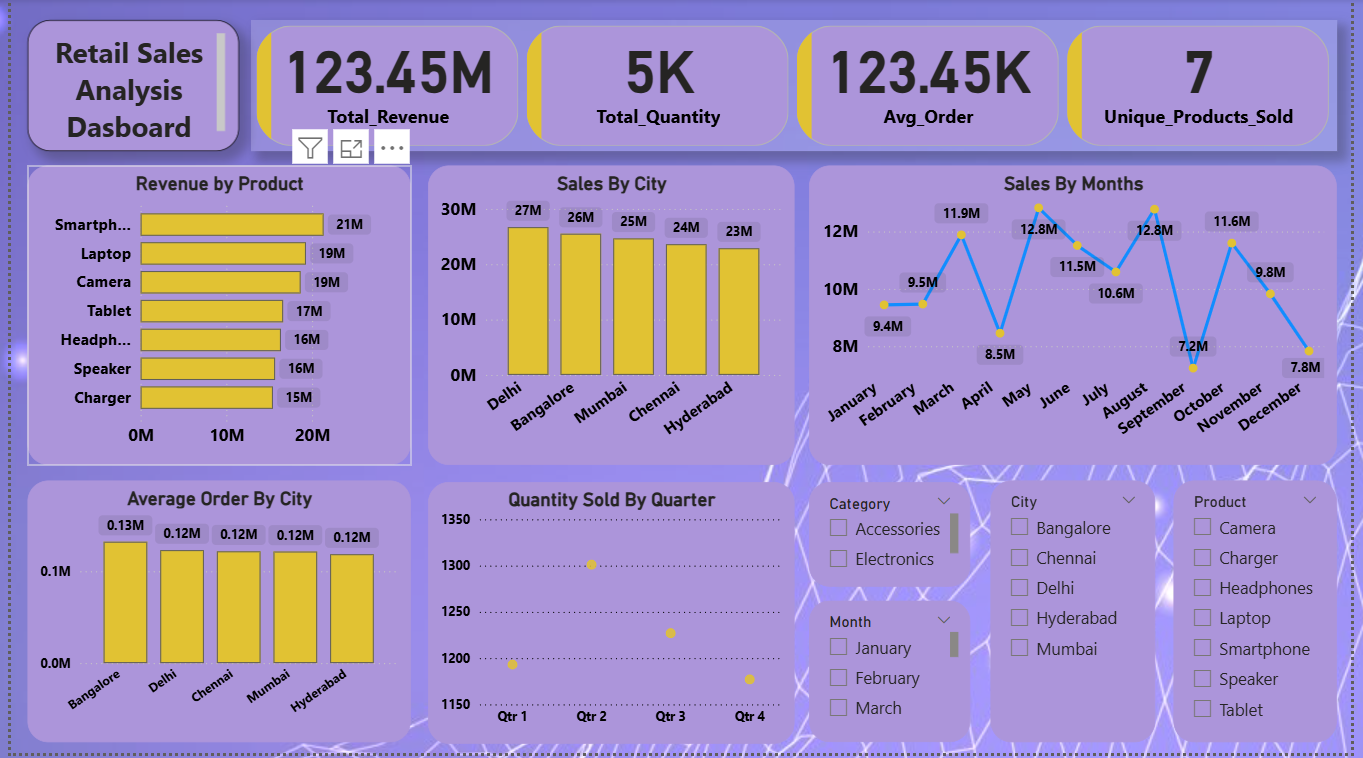

This screenshot's page, from the dashboard's own definition file:
{"tool":"powerbi","page":{"name":"Page 1","canvas":[1280,720],"ordinal":0},"visuals":[{"type":"textbox","box":[15.9,20.7,202,125.7],"z":0},{"type":"cardVisual","title":"Total_Quantity","fields":{"Data":["retail_dataset_sql_project.Total_Revenue","retail_dataset_sql_project.Total_Quantity","retail_dataset_sql_project.Avg_Order","retail_dataset_sql_project.Unique_Products_Sold"]},"box":[229,20.7,1037.1,125.7],"z":1000},{"type":"clusteredBarChart","title":"Revenue by Product","fields":{"Y":["retail_dataset_sql_project.Total_Revenue"],"Category":["retail_dataset_sql_project.Product"]},"box":[15.9,159.1,365.8,286.3],"z":2000},{"type":"clusteredColumnChart","title":"Sales By City","fields":{"Category":["retail_dataset_sql_project.City"],"Y":["Sum(retail_dataset_sql_project.Total)"]},"box":[397.7,159.1,349.9,286.3],"z":3000},{"type":"lineChart","title":"Sales By Months","fields":{"Y":["Sum(retail_dataset_sql_project.Total)"],"Category":["retail_dataset_sql_project.Date.Variation.Date Hierarchy.Month"]},"box":[761.9,159.1,504.2,286.3],"z":4000},{"type":"clusteredColumnChart","title":"Average Order By City","fields":{"Y":["retail_dataset_sql_project.Avg_Order"],"Category":["retail_dataset_sql_project.City"]},"box":[15.9,459.7,365.8,249.7],"z":4001},{"type":"scatterChart","title":"Quantity Sold By Quarter","fields":{"X":["retail_dataset_sql_project.Date.Variation.Date Hierarchy.Quarter"],"Y":["Sum(retail_dataset_sql_project.Quantity)"]},"box":[397.7,461.3,349.9,249.7],"z":4002},{"type":"slicer","title":"Average Order By City","fields":{"Values":["retail_dataset_sql_project.Product"]},"box":[1110.2,459.7,155.9,249.7],"z":4003},{"type":"slicer","title":"Average Order By City","fields":{"Values":["retail_dataset_sql_project.City"]},"box":[935.3,459.7,157.5,249.7],"z":4004},{"type":"slicer","title":"Average Order By City","fields":{"Values":["retail_dataset_sql_project.Category"]},"box":[761.9,461.3,154.3,100.2],"z":4005},{"type":"slicer","title":"Average Order By City","fields":{"Values":["retail_dataset_sql_project.Date.Variation.Date Hierarchy.Month"]},"box":[761.9,574.2,154.3,135.2],"z":4006}]}

Visuals, with their boxes on the page's 1280x720 design canvas (x1, y1, x2, y2). These are canvas units, not pixel positions in the 1363x758 screenshot, which may show the page scaled, cropped or inside an application window:
textbox: (left=16, top=21, right=218, bottom=146)
"Total_Quantity" cardVisual: (left=229, top=21, right=1266, bottom=146)
"Revenue by Product" clusteredBarChart: (left=16, top=159, right=382, bottom=445)
"Sales By City" clusteredColumnChart: (left=398, top=159, right=748, bottom=445)
"Sales By Months" lineChart: (left=762, top=159, right=1266, bottom=445)
"Average Order By City" clusteredColumnChart: (left=16, top=460, right=382, bottom=709)
"Quantity Sold By Quarter" scatterChart: (left=398, top=461, right=748, bottom=711)
"Average Order By City" slicer: (left=1110, top=460, right=1266, bottom=709)
"Average Order By City" slicer: (left=935, top=460, right=1093, bottom=709)
"Average Order By City" slicer: (left=762, top=461, right=916, bottom=562)
"Average Order By City" slicer: (left=762, top=574, right=916, bottom=709)
